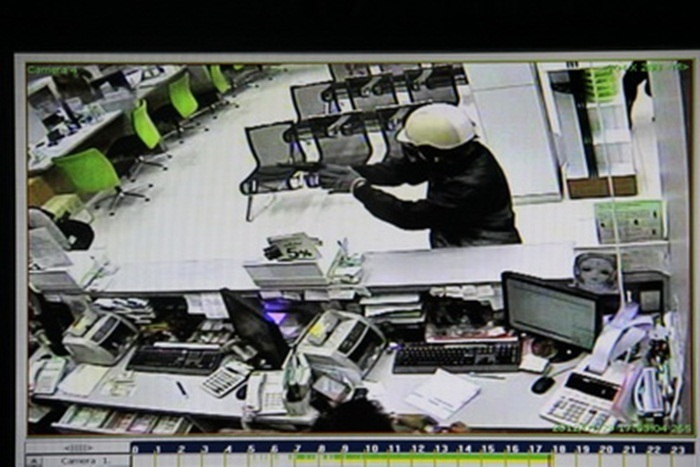Helmet: (386, 98, 486, 159)
gun: (275, 157, 334, 184)
